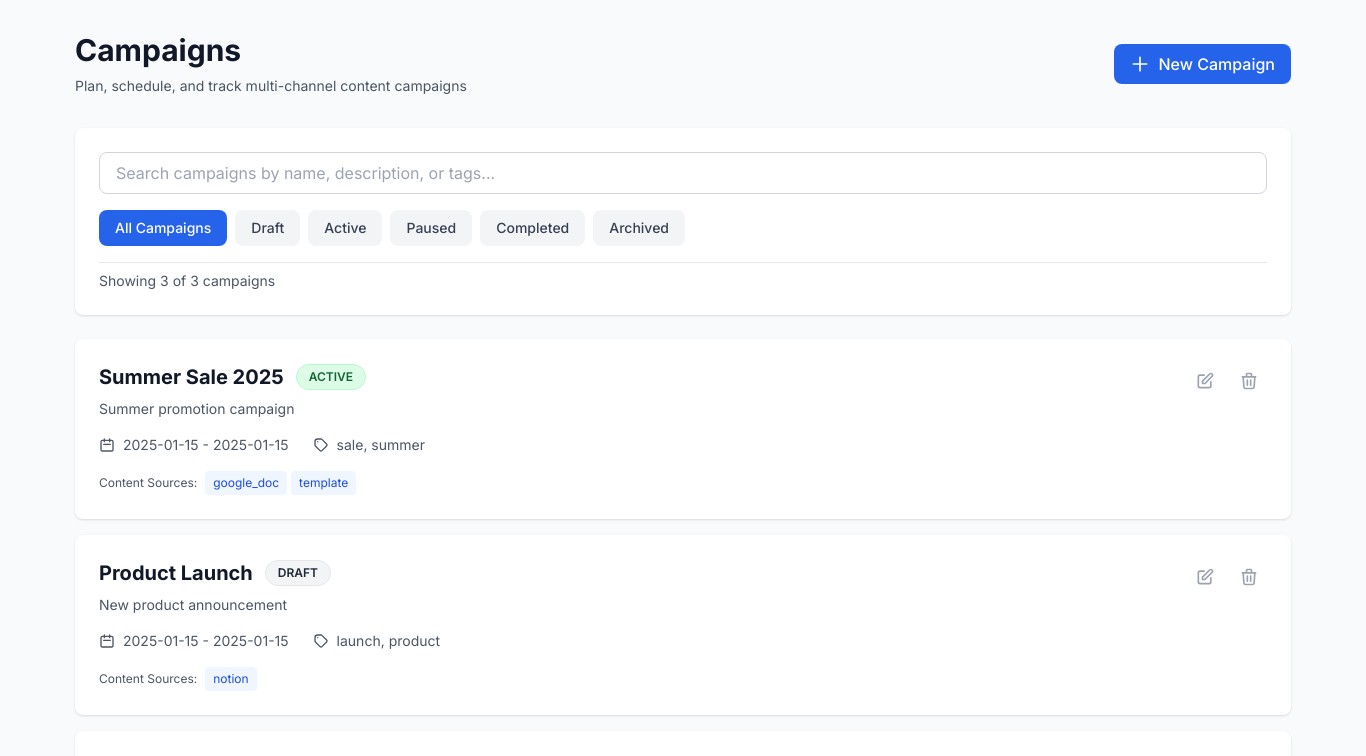
CampaignsPage › Status Filtering › should filter by active status
Click the button "Active" at (345, 228), box [308,210,382,246]
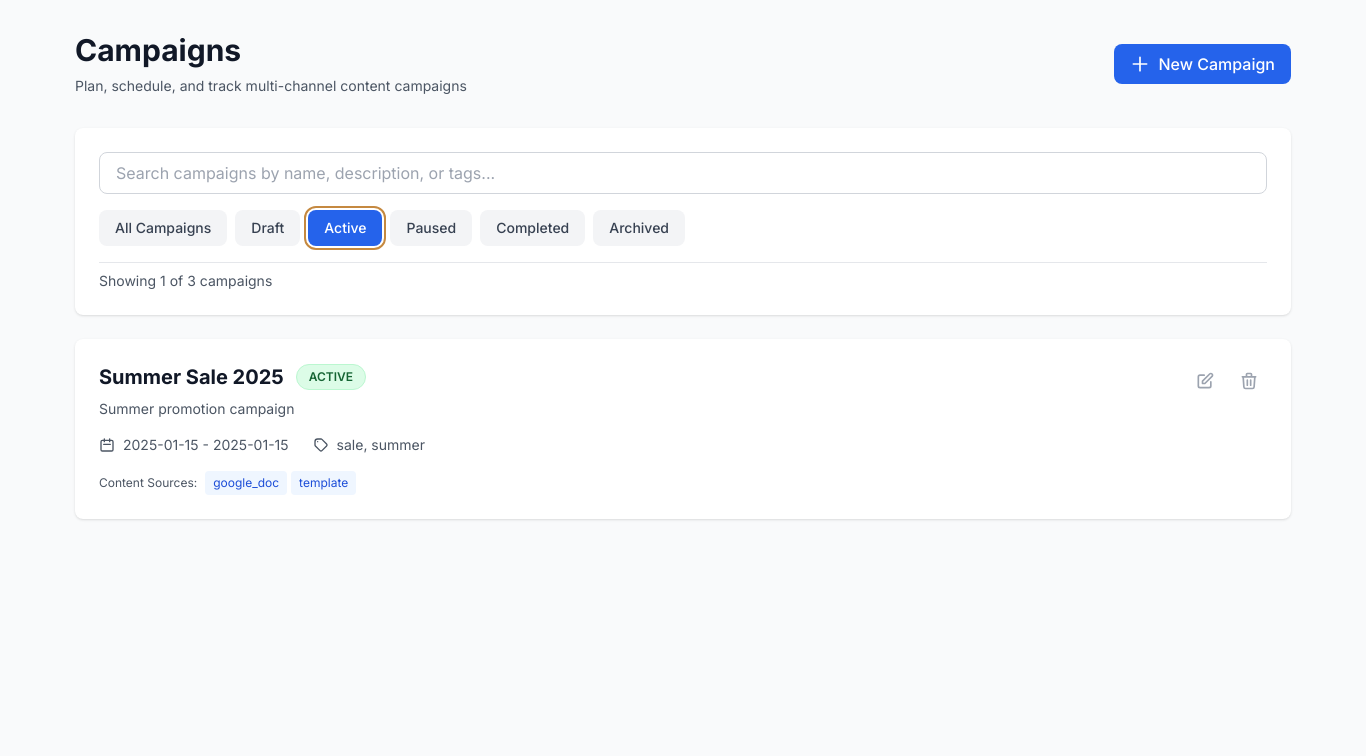
Expected: the heading "Summer Sale 2025" is shown, [99,363,284,391]
Expected: the heading "Product Launch" is gone
Expected: the text "Showing 1 of 3 campaigns" is shown, [99,272,272,289]
